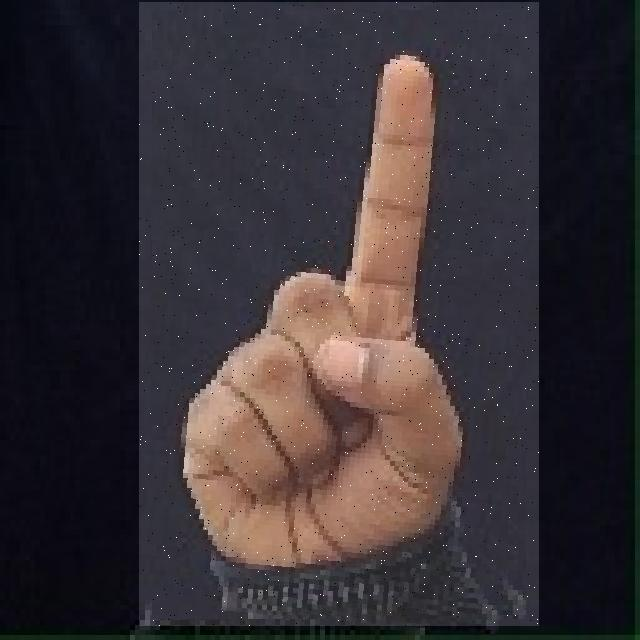IloveYou: (139, 2, 539, 626)
